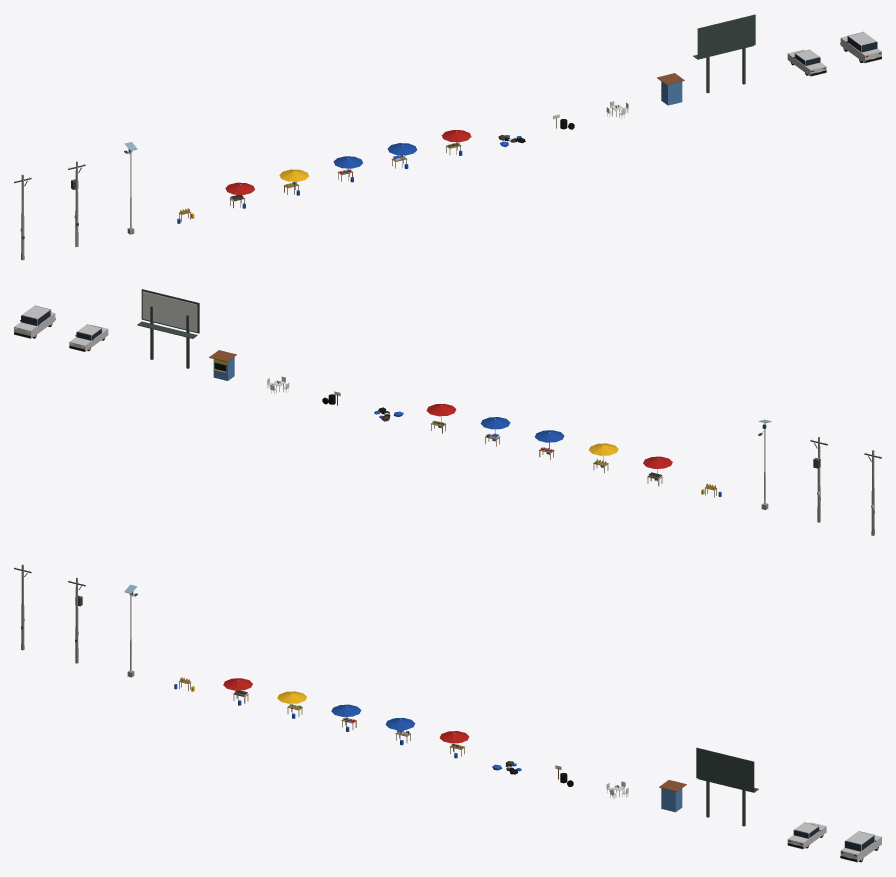
File: props.glb
3 views of the same model, one above another, from view 1: azimuth 30°, elevation 25°; view 2: azimuth 150°, elevation 25°; view 3: azimuth 330°, elevation 25° (orthographic).
Parts seen in each view (by area): view 1: prop_panneau_pub, veh_4x4, veh_berline, prop_cabine; view 2: prop_panneau_pub, veh_4x4, veh_berline, prop_cabine; view 3: prop_panneau_pub, veh_4x4, veh_berline, prop_cabine.
Part boxes in pixels (x1=…): prop_panneau_pub: x1=693, y1=14, x2=755, y2=93; veh_4x4: x1=840, y1=31, x2=881, y2=63; veh_berline: x1=787, y1=49, x2=826, y2=76; prop_cabine: x1=657, y1=73, x2=684, y2=105; prop_panneau_pub: x1=137, y1=289, x2=199, y2=368; veh_4x4: x1=14, y1=305, x2=55, y2=338; veh_berline: x1=69, y1=324, x2=108, y2=351; prop_cabine: x1=209, y1=350, x2=236, y2=380; prop_panneau_pub: x1=696, y1=747, x2=758, y2=826; veh_4x4: x1=840, y1=831, x2=881, y2=862; veh_berline: x1=787, y1=822, x2=826, y2=849; prop_cabine: x1=659, y1=780, x2=686, y2=812.
Size of the model in its own units: 94.99 by 9.73 by 4.82.
